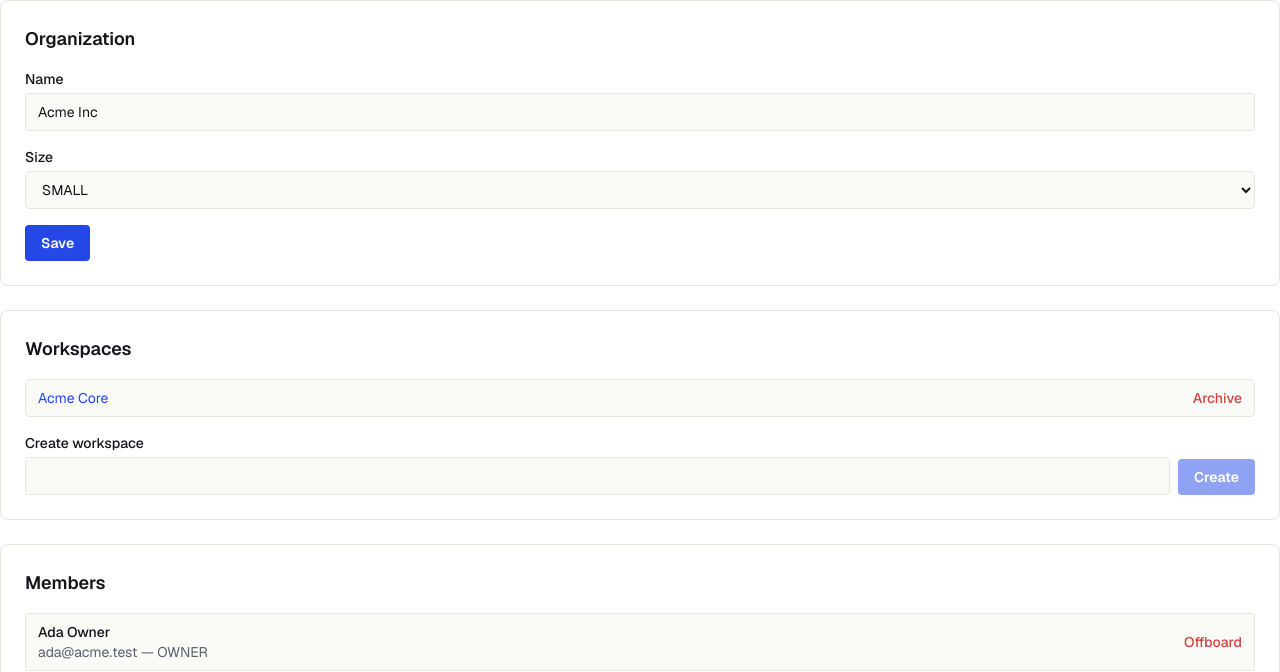
Test: OrgSettings › archives a workspace and removes it from the list on success
The image size is (1280, 672).
Expected: the link "Acme Core" is shown, [38,388,108,408]
What coordinates should you click on to do the following:
click the button "Archive"
I would click on:
 (1217, 398)
Its box is [1193,388,1242,408].
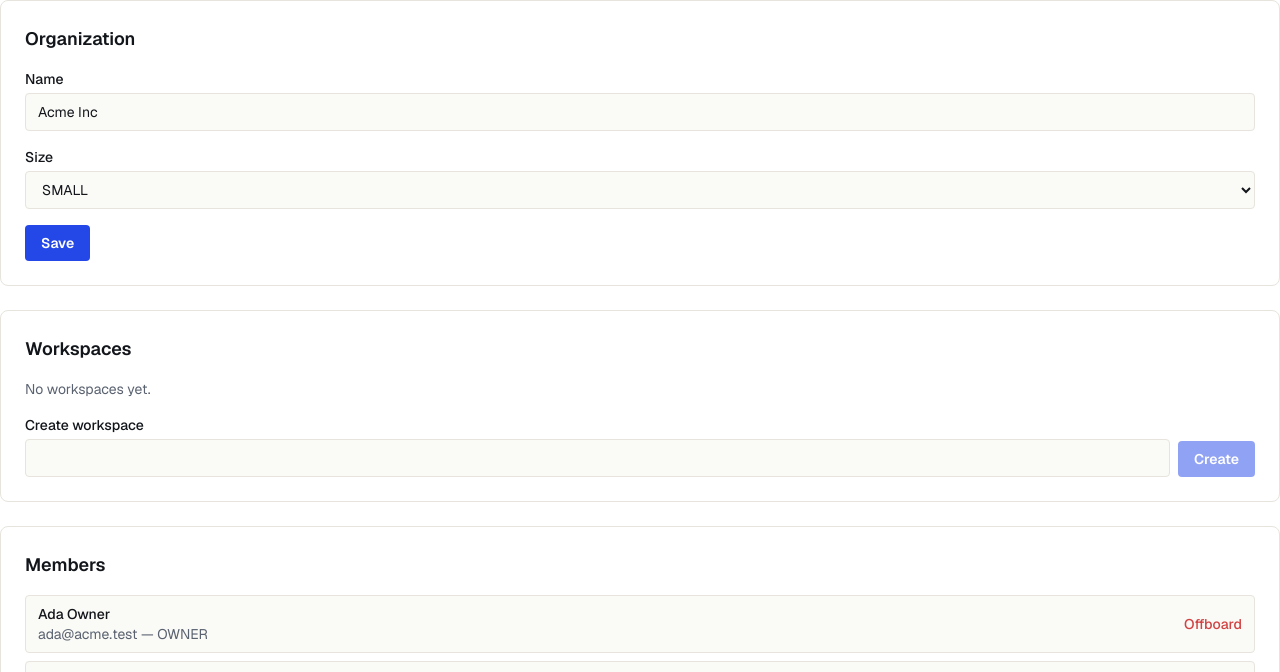
Expected: the link "Acme Core" is gone
